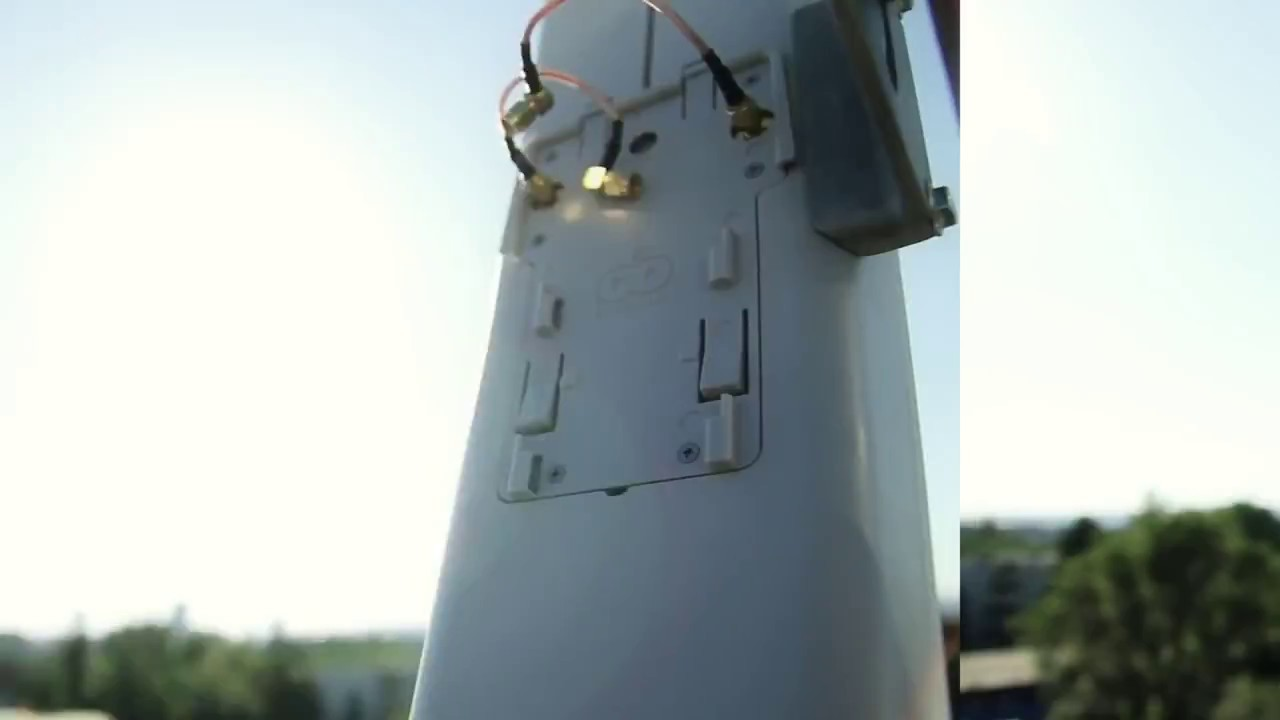sa: (463, 1, 974, 720)
